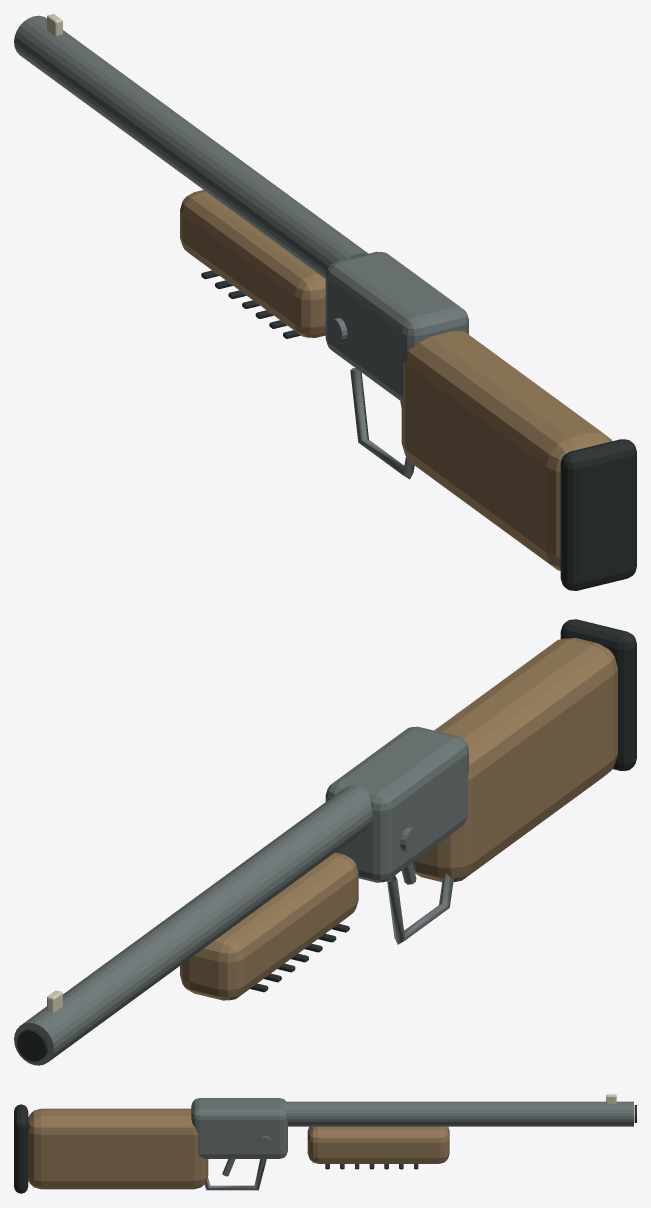
File: shotgun.glb
The picture shows the model from 3 angles, top to bottom: view 1: azimuth 30°, elevation 25°; view 2: azimuth 150°, elevation 25°; view 3: azimuth 270°, elevation 25°; orthographic projection. The views are drawn at different scales.
Visible parts, largest first — view 1: shotgun; view 2: shotgun; view 3: shotgun.
Part boxes in pixels (x1=…): shotgun: x1=14, y1=14, x2=636, y2=590; shotgun: x1=14, y1=619, x2=636, y2=1065; shotgun: x1=14, y1=1094, x2=636, y2=1193.
Size of the model in its own units: 0.084 by 0.1948 by 1.1.
